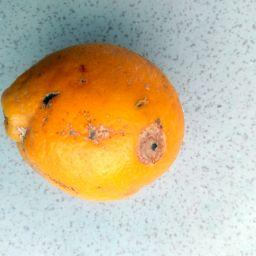Unripe: (3, 43, 185, 200)
